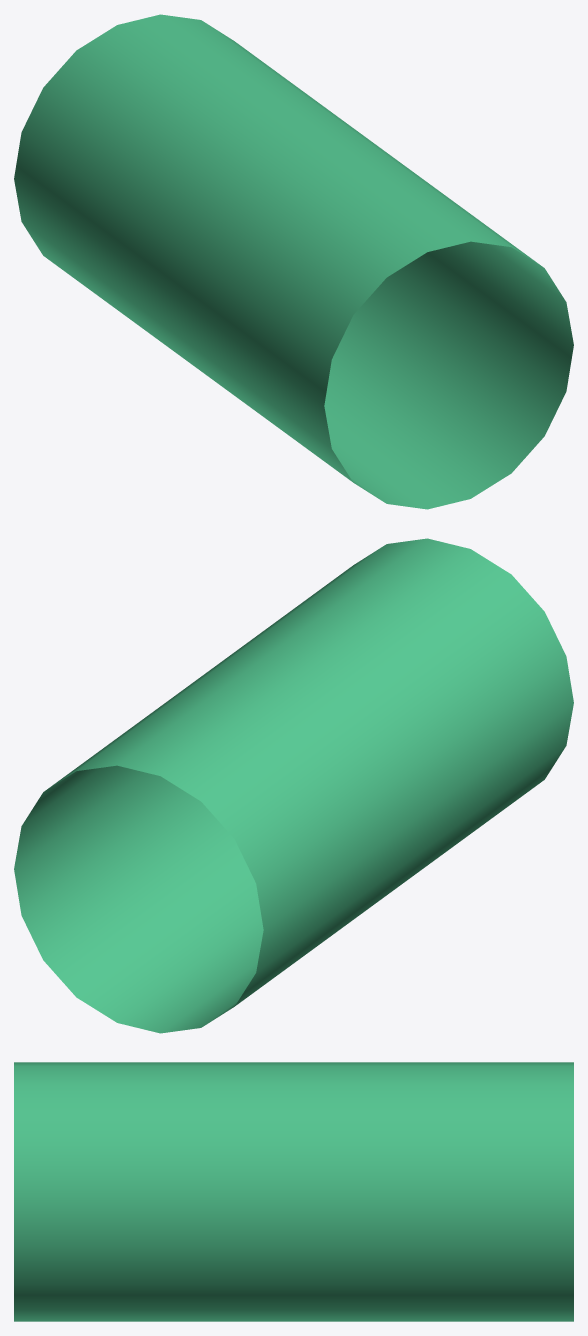
File: PipeStraight.fbx
The picture shows the model from 3 angles, top to bottom: view 1: azimuth 30°, elevation 25°; view 2: azimuth 150°, elevation 25°; view 3: azimuth 270°, elevation 25°; orthographic projection. The views are drawn at different scales.
Visible parts, largest first — view 1: PipeStraight:Cylinder001; view 2: PipeStraight:Cylinder001; view 3: PipeStraight:Cylinder001.
Part boxes in pixels (left/top/right/bottom): PipeStraight:Cylinder001: left=14, top=14, right=573, bottom=509; PipeStraight:Cylinder001: left=14, top=538, right=573, bottom=1033; PipeStraight:Cylinder001: left=14, top=1062, right=573, bottom=1321.
Bounding box in the file's own units: 4.64 × 4.57 × 10.
